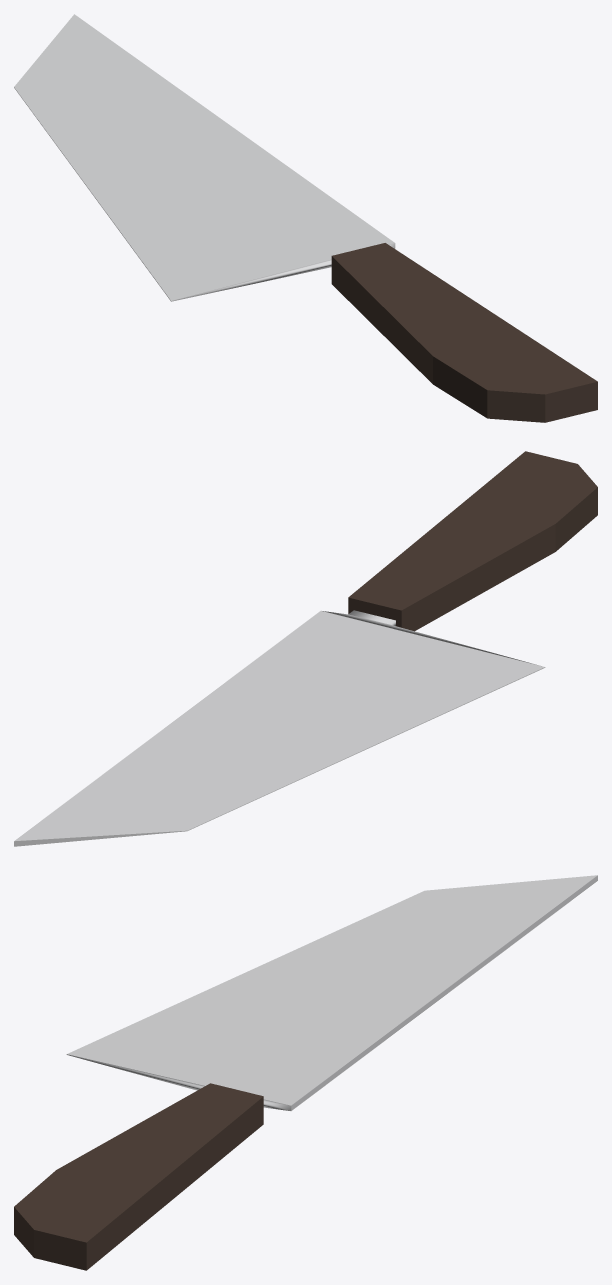
File: Knife.fbx
3 renders of one model, top to bottom at view 1: azimuth 30°, elevation 25°; view 2: azimuth 150°, elevation 25°; view 3: azimuth 330°, elevation 25°, orthographic.
Parts seen in each view (by area): view 1: cookingKnife; view 2: cookingKnife; view 3: cookingKnife.
Part boxes in pixels (x1,y1,x2,y2): cookingKnife: [14, 14, 597, 422]; cookingKnife: [14, 451, 597, 846]; cookingKnife: [14, 875, 597, 1270].
Bounding box in the file's own units: 36.2 × 4.36 × 145.
